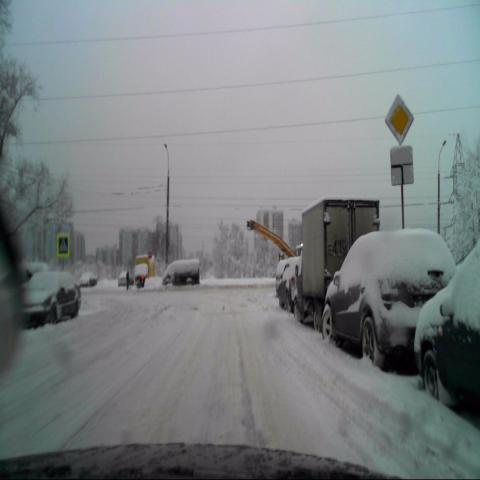8_13: (390, 143, 414, 187)
